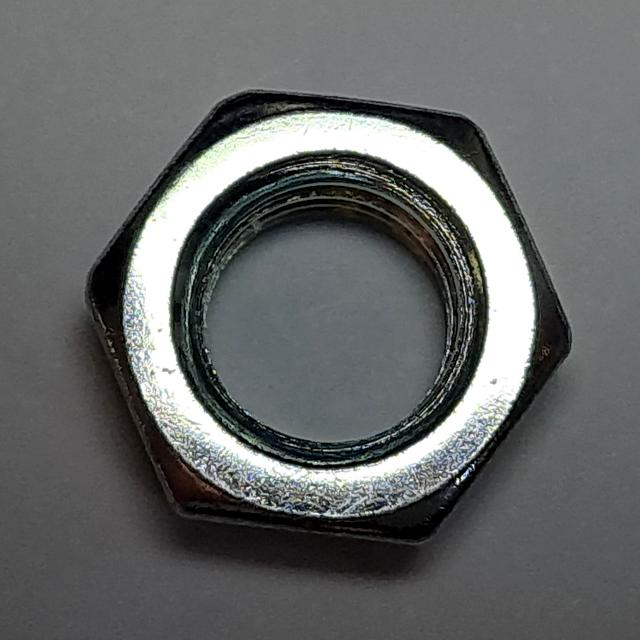Excellent: (68, 72, 584, 558)
